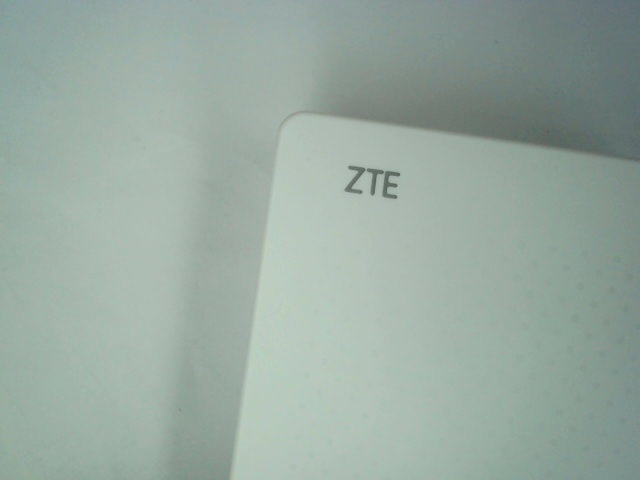AN_ZTE: (336, 155, 405, 207)
